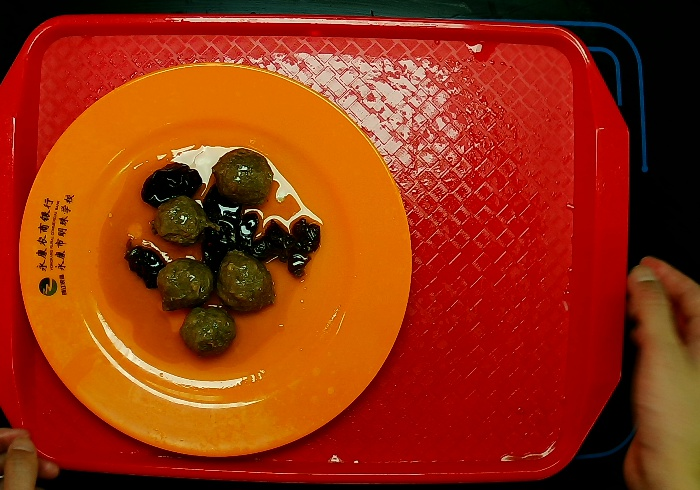YKMZ-Ju_Se_Mian_Pan: (15, 58, 416, 456)
